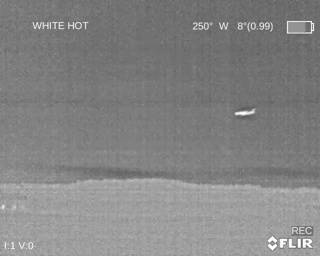AIRPLANE: (233, 107, 256, 117)
